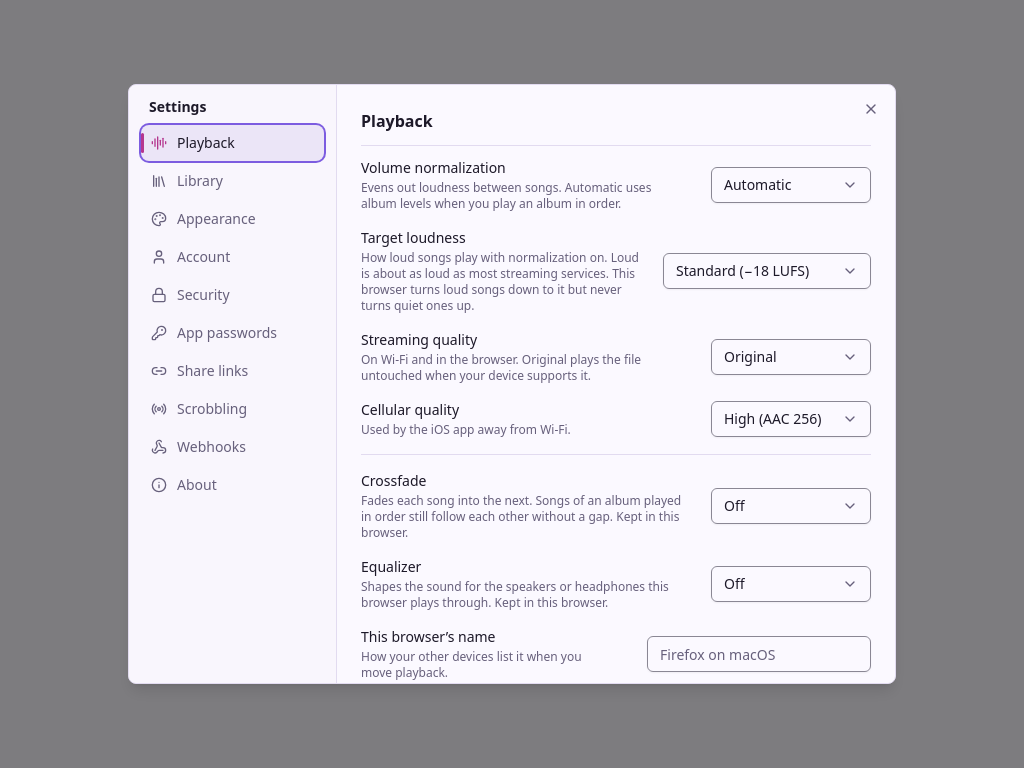
Scenario: SettingsDialog › switches to Account
Step 1. Click the button "Account" → (232, 257), box [141,239,324,275]
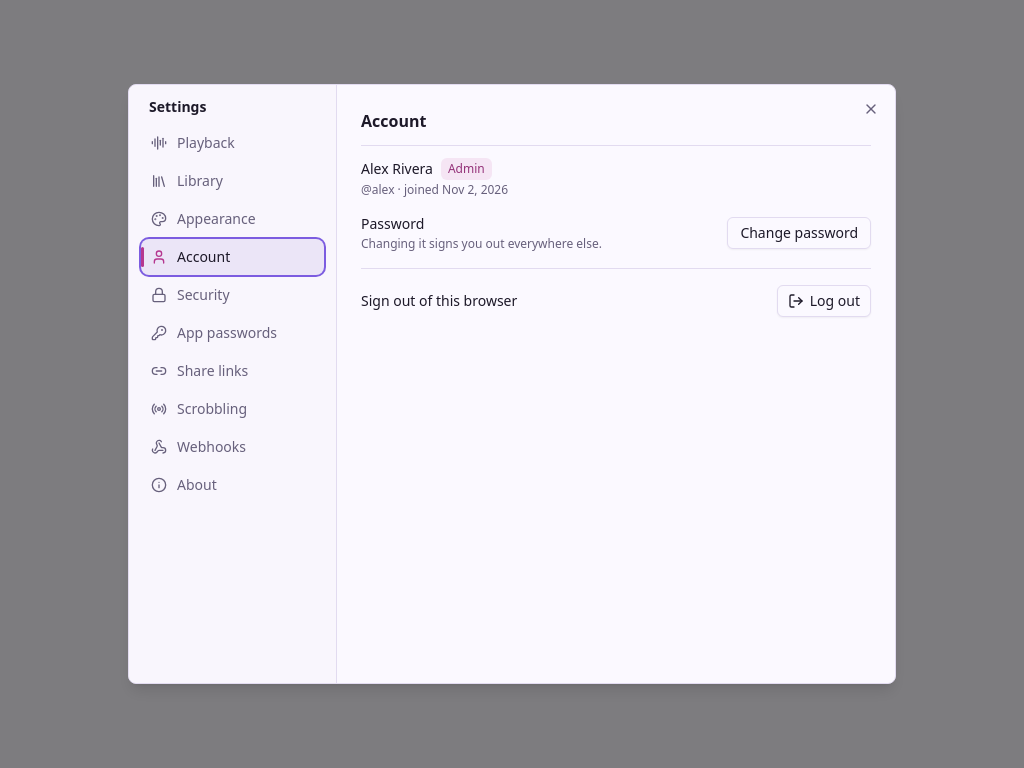
Now the button "Account" is marked as current, box [141,239,324,275]
